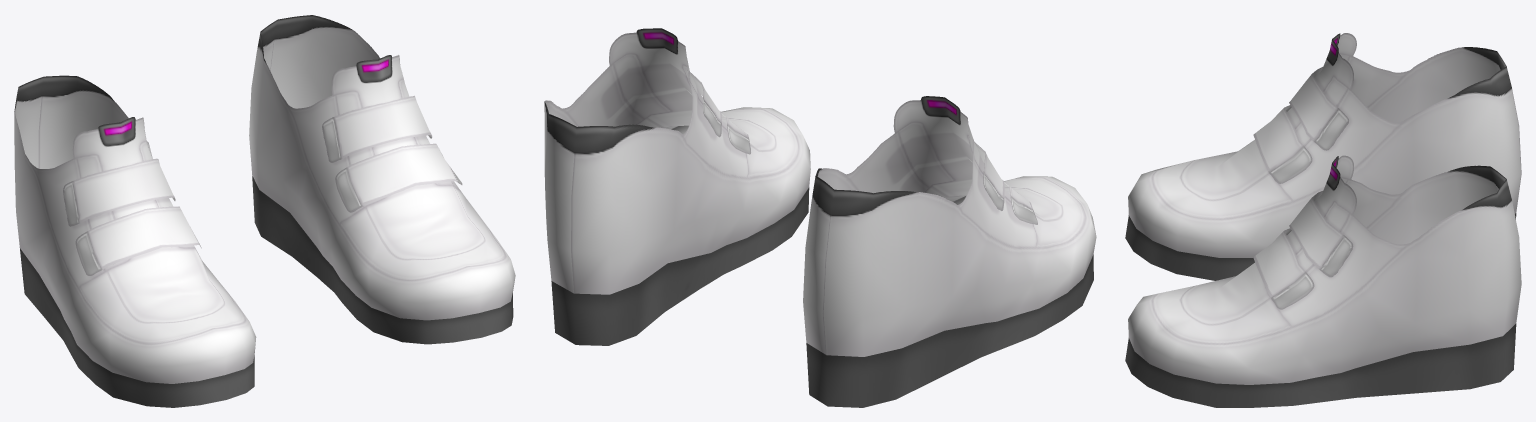
The model's file is shoes.glb.
3 renders of one model, left to right at view 1: azimuth 30°, elevation 25°; view 2: azimuth 150°, elevation 25°; view 3: azimuth 270°, elevation 25°, orthographic. The views are drawn at different scales.
Parts seen in each view (by area): view 1: shoes.007; view 2: shoes.007; view 3: shoes.007.
Part boxes in pixels (bbox=[...]): shoes.007: bbox=[14, 15, 515, 407]; shoes.007: bbox=[544, 28, 1096, 407]; shoes.007: bbox=[1125, 33, 1521, 407].
Bounding box in the file's own units: 0.2342 × 0.128 × 0.2026.
2 materials, 2 textured.
